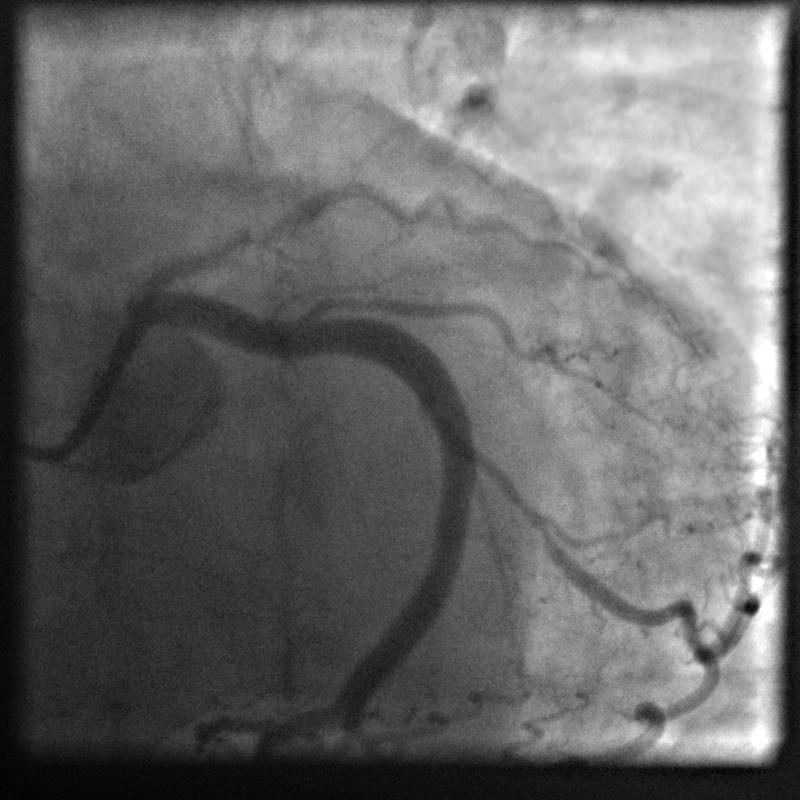Stenosis: (467, 424, 567, 558)
